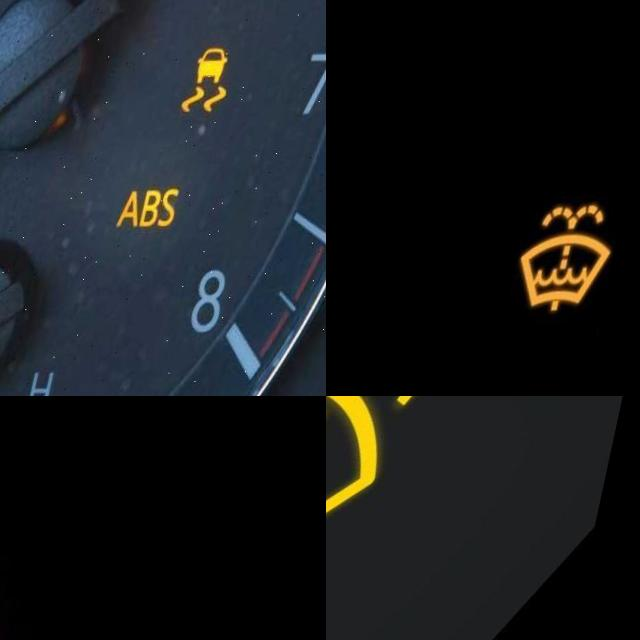Washer Fluid: (326, 396, 459, 588), (514, 203, 638, 319)
